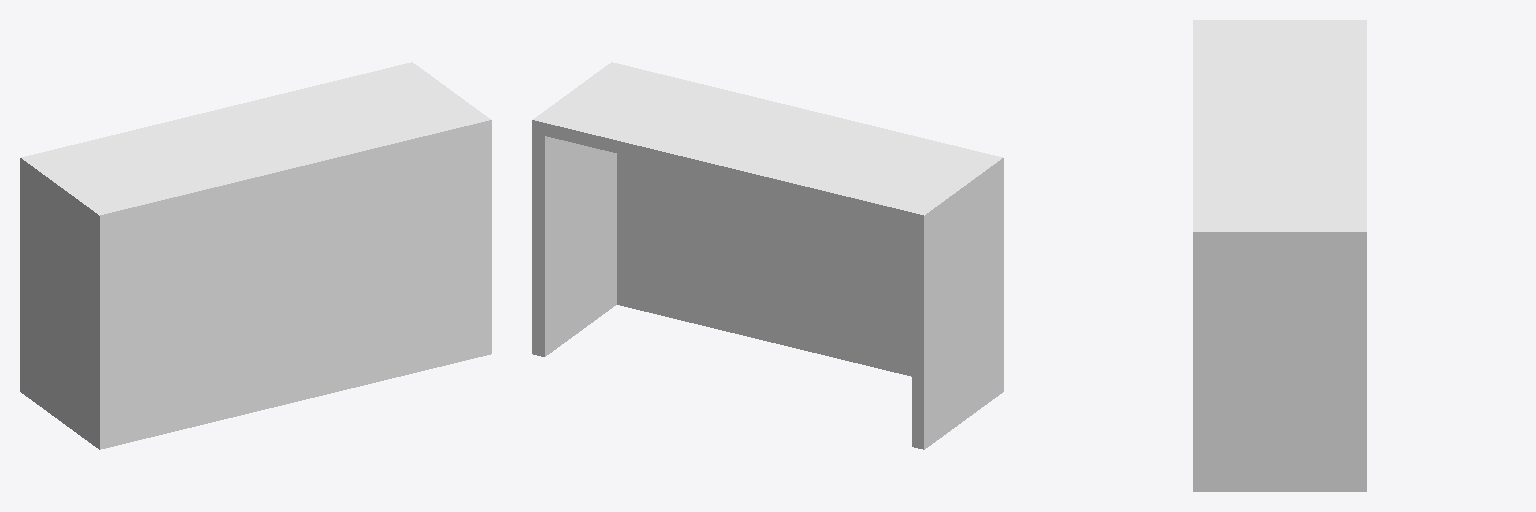
URDF robot description (top_left_shelf):
<?xml version="1.0" ?>
<robot name="top_left_shelf">
 <link name="baseLink">
   <contact>
     <lateral_friction value="0.5"/>
   </contact>
   <inertial>
     <origin rpy="0 0 0" xyz="0.944977 0.070391 1.307782"/>
      <mass value="1.0"/>
      <inertia ixx="0.000210" ixy="0.000000" ixz="0.000000" iyy="0.000724" iyz="-0.000024" izz="0.000624"/>
   </inertial>
   <visual>
     <origin rpy="0 0 0" xyz="0 0 0"/>
     <geometry>
       <mesh filename="top_left_shelf.obj" scale="1.0 1.0 1.0"/>
     </geometry>
      <material name="white">
       <color rgba="1 1 1 1"/>
     </material>
   </visual>
   <collision>
     <origin rpy="0 0 0" xyz="0 0 0"/>
     <geometry>
       <mesh filename="top_left_shelf_vhacd2.obj" scale="1.0 1.0 1.0"/>
     </geometry>
   </collision>
 </link>
</robot>

--- Facts derived from the render (not from the file) ---
Views: 3 orthographic renders of the robot side by side, from view 1: azimuth 30°, elevation 25°; view 2: azimuth 150°, elevation 25°; view 3: azimuth 270°, elevation 25°.
Model top_left_shelf with 1 links and 0 joints (none), rooted at baseLink, posed all joints at 0.
Visible links, largest first — view 1: baseLink; view 2: baseLink; view 3: baseLink.
Link boxes in pixels (left/top/right/bottom): baseLink: left=20, top=62, right=491, bottom=449; baseLink: left=532, top=62, right=1003, bottom=449; baseLink: left=1193, top=20, right=1366, bottom=491.
Size in the robot's own frame: 0.63 by 0.22 by 0.36 metres.
Meshes: 1 distinct files referenced, 1 mesh visuals loaded (1 OBJ).